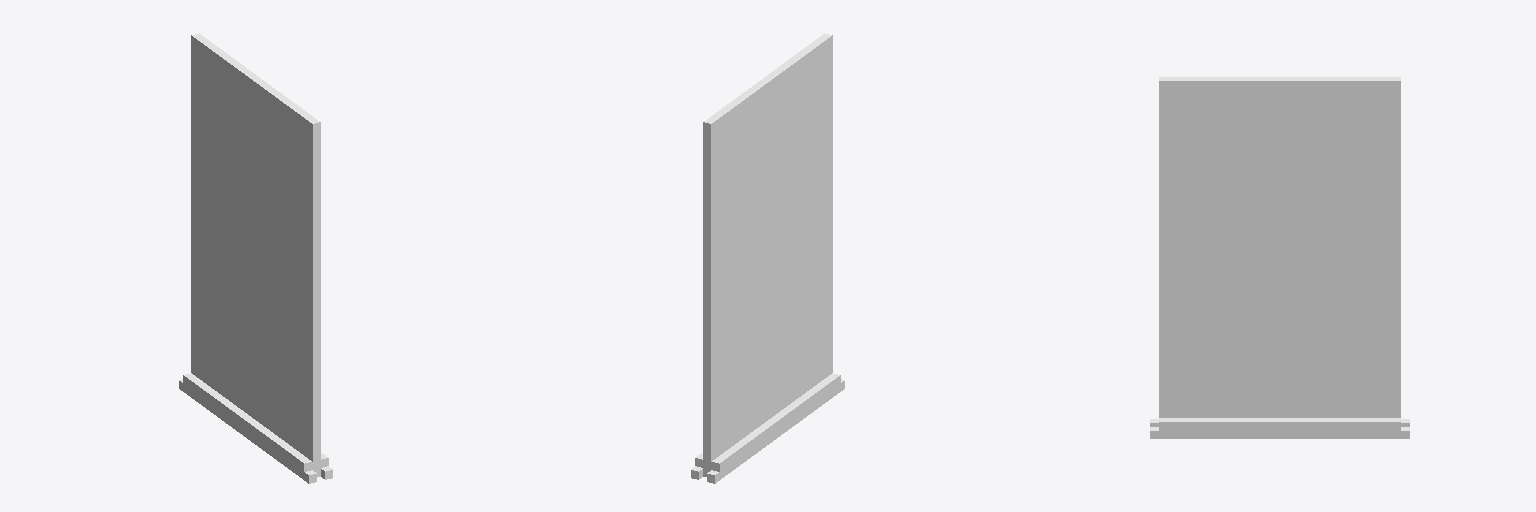
File: Projector-0-plane.obj
3 renders of one model, left to right at view 1: azimuth 30°, elevation 25°; view 2: azimuth 150°, elevation 25°; view 3: azimuth 270°, elevation 25°, orthographic.
Parts seen in each view (by area): view 1: plane; view 2: plane; view 3: plane.
Boxes of the visible parts, x1,y1,x2,y2 form: plane: [179, 33, 332, 483]; plane: [691, 33, 844, 483]; plane: [1150, 77, 1409, 438].
Size of the model in its own units: 0.3 by 4.2 by 2.8.